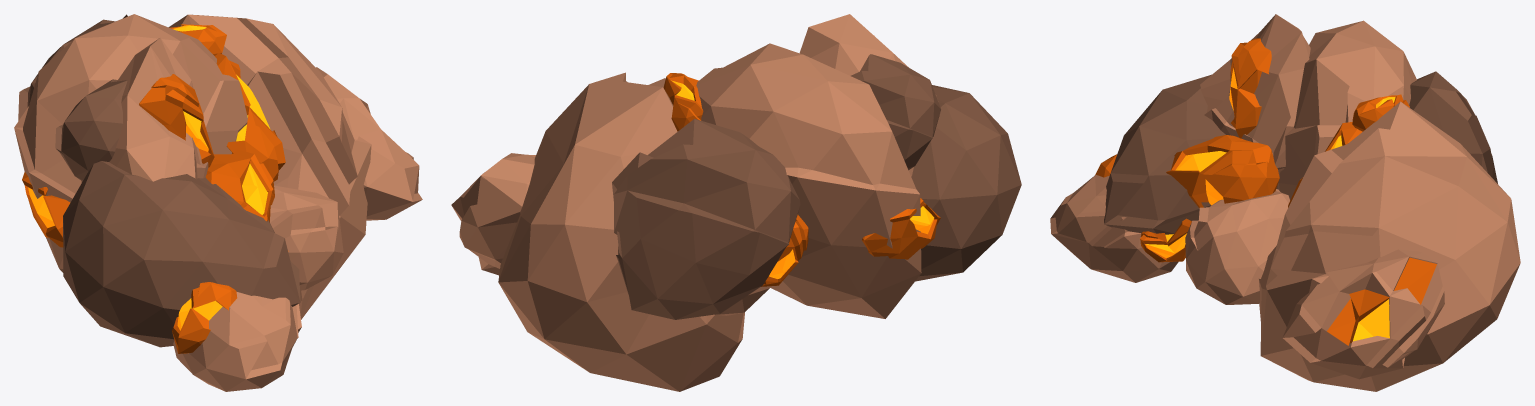
The model's file is minerales.glb.
3 views of the same model, side by side, from view 1: azimuth 30°, elevation 25°; view 2: azimuth 150°, elevation 25°; view 3: azimuth 270°, elevation 25° (orthographic). The views are drawn at different scales.
Parts seen in each view (by area): view 1: Icosphere.013; view 2: Icosphere.013; view 3: Icosphere.013.
Part boxes in pixels (x1=…): Icosphere.013: x1=14, y1=14, x2=422, y2=391; Icosphere.013: x1=451, y1=14, x2=1021, y2=391; Icosphere.013: x1=1050, y1=14, x2=1520, y2=391.
Size of the model in its own units: 2.88 by 2.31 by 3.08.
